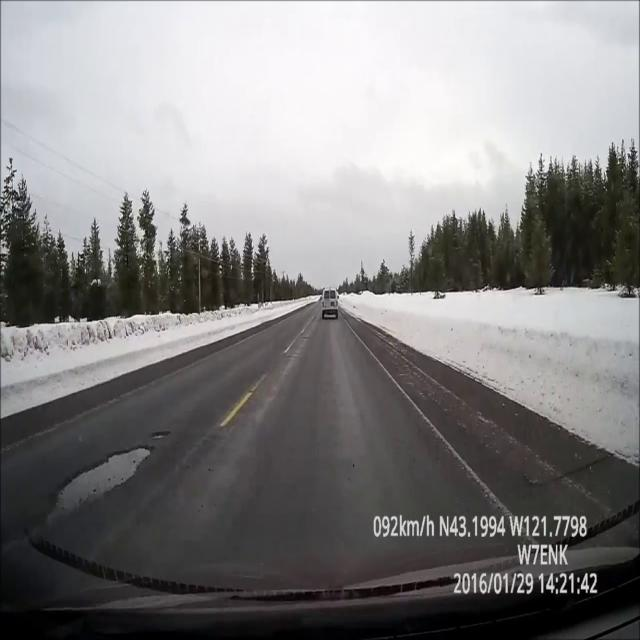Pothole: (39, 442, 152, 533), (150, 428, 173, 440)
